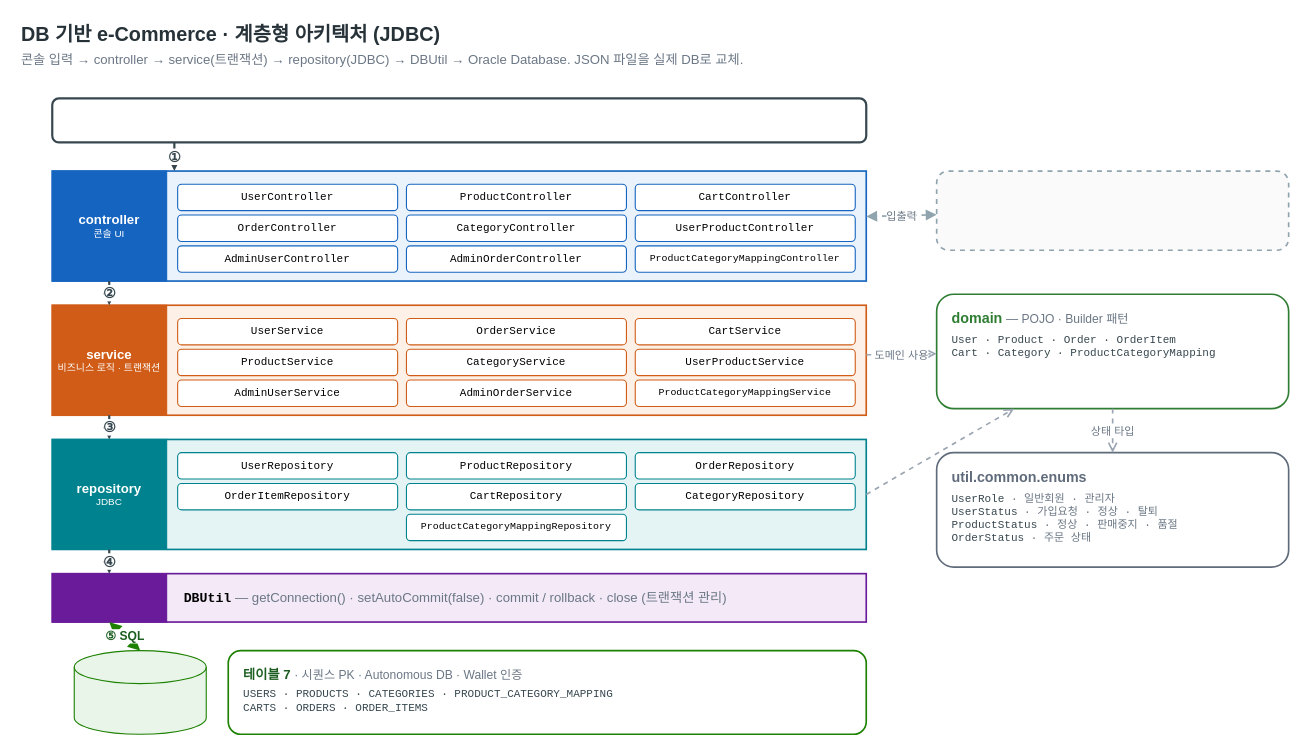
Image size: 1308x754. Some labels were removed from this diagram. The shapes that lost their labels are listed below. From the top down, each one's centre as x and y in pixels, then its label:
At point (459, 120): "Ecommerce.main() UserController 시작 → 콘솔 메뉴".
At point (1112, 210): "콘솔 UI System.in / System.out InputUtil — 메뉴 선택 · 입력 검증".
At point (109, 597): "util.db".
At point (139, 692): "Oracle Database".
